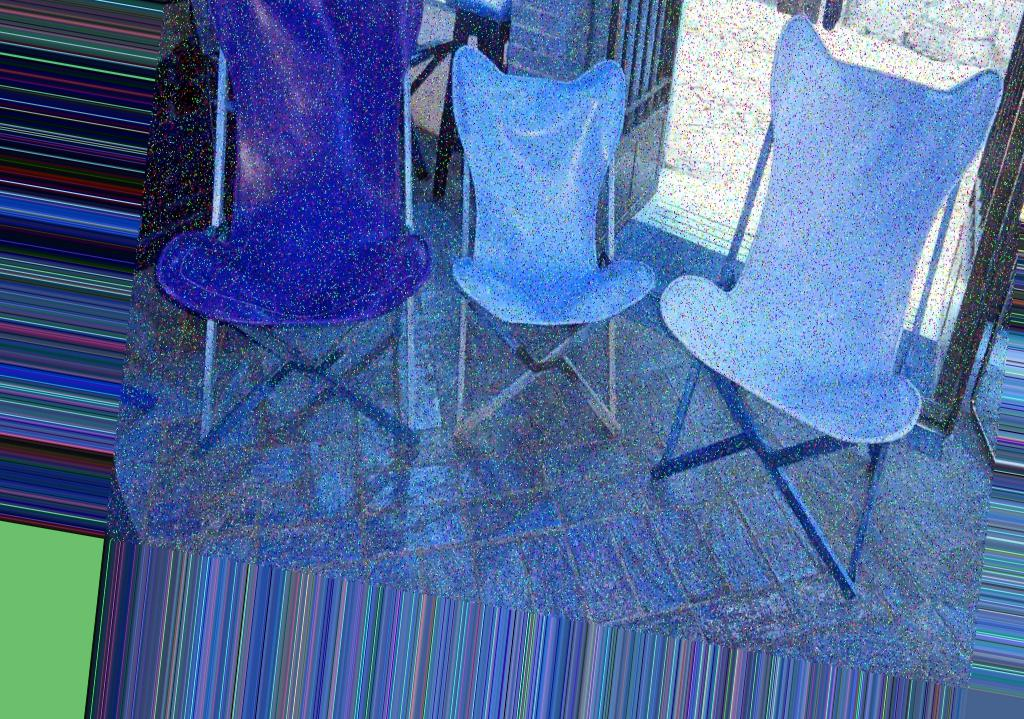chair: (649, 14, 1003, 603), (158, 1, 430, 447), (451, 45, 658, 439)
